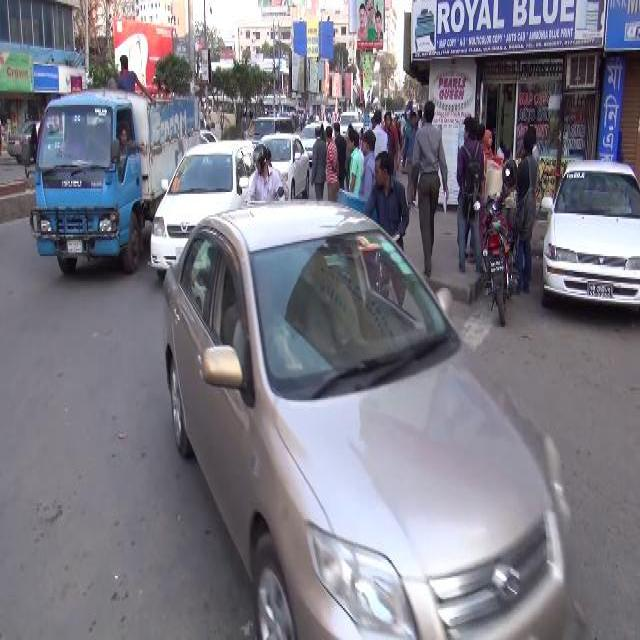car: (160, 195, 600, 633), (540, 151, 640, 315), (150, 136, 246, 280), (273, 129, 311, 195), (4, 118, 36, 166)
motorbike: (472, 158, 520, 326)
pickup: (23, 86, 148, 280)
